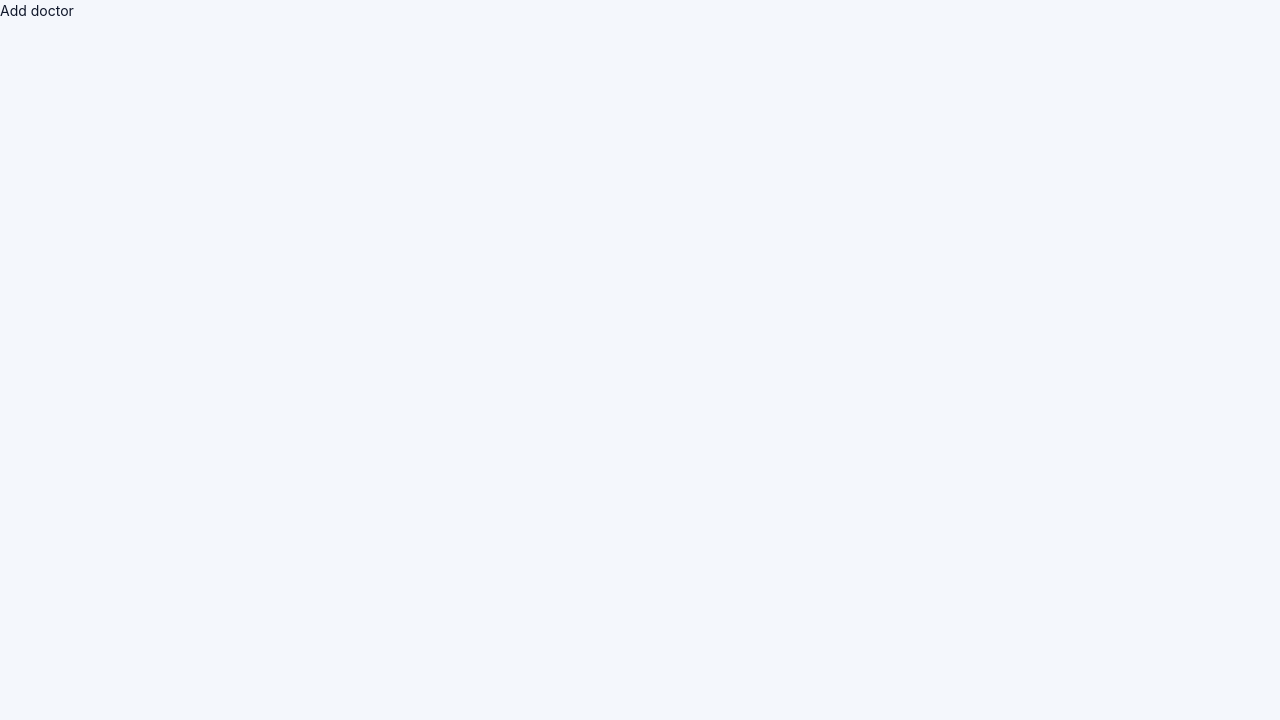
Test: opens from the trigger
Click the button "Add doctor": (37, 10) [0,0,74,21]
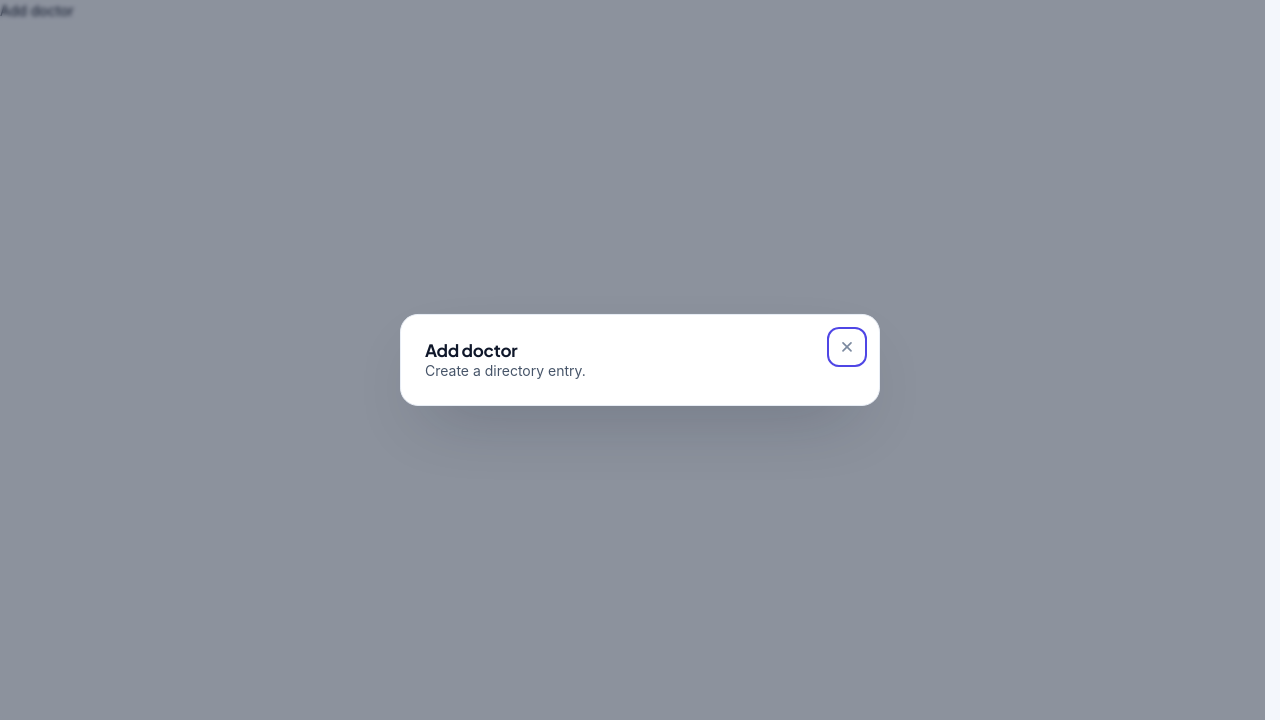
expect the dialog "Add doctor" is shown: met, box [400,314,880,406]
